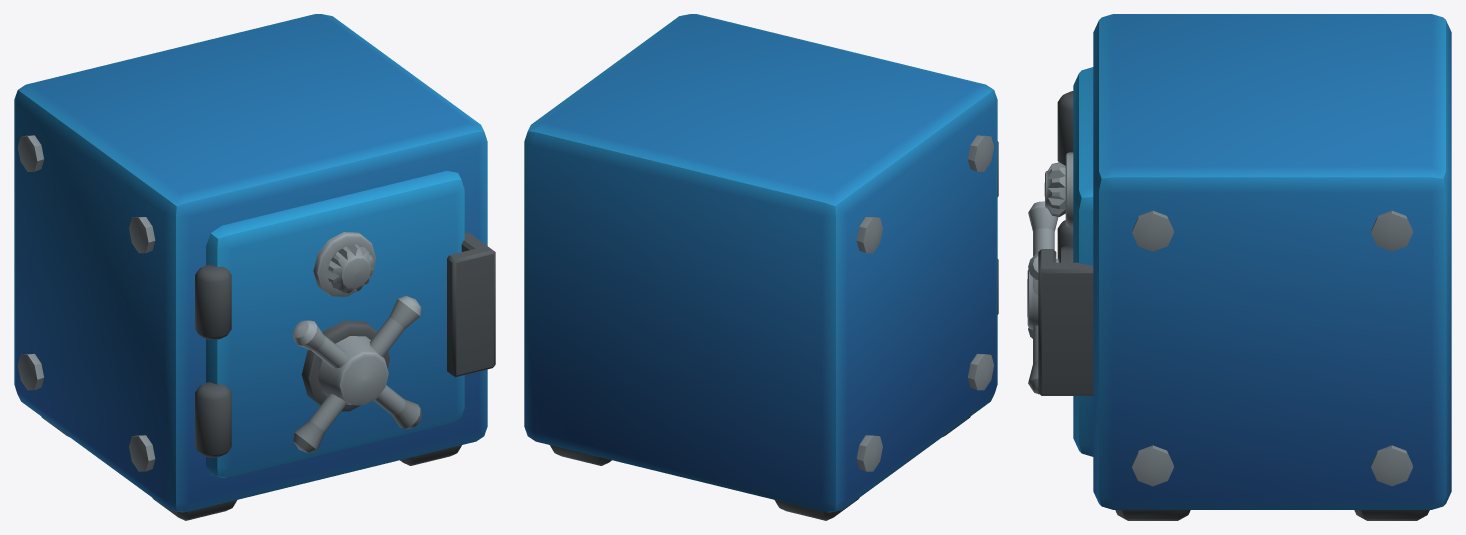
The model's file is vault.glb.
3 renders of one model, left to right at view 1: azimuth 30°, elevation 25°; view 2: azimuth 150°, elevation 25°; view 3: azimuth 270°, elevation 25°, orthographic. The views are drawn at different scales.
Visible parts, largest first — view 1: vault; view 2: vault; view 3: vault.
Boxes of the visible parts, x1=… form: vault: x1=14, y1=14, x2=495, y2=520; vault: x1=524, y1=14, x2=998, y2=520; vault: x1=1027, y1=14, x2=1451, y2=520.
Bounding box in the file's own units: 2.13 × 2 × 2.13.
Materials: 1 (1 with a texture image).
